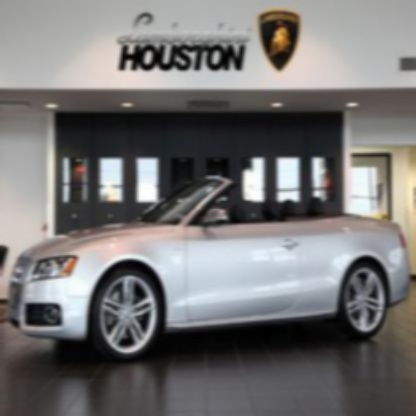Vehicle: (9, 180, 410, 362)
